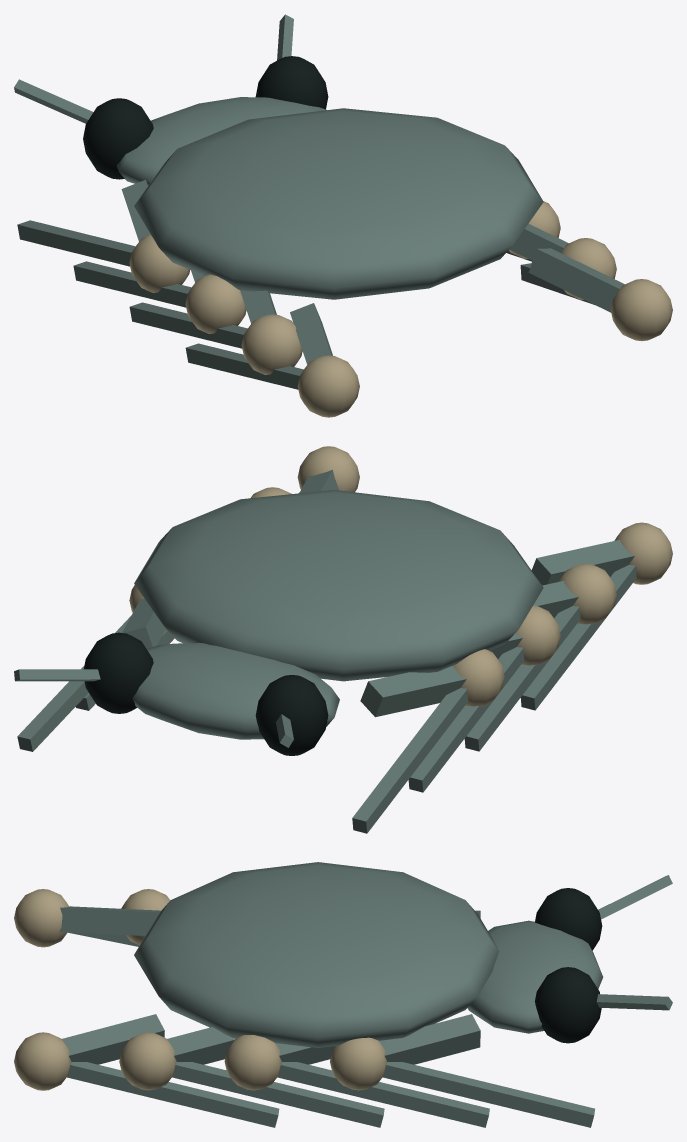
File: cremling.glb
3 renders of one model, top to bottom at view 1: azimuth 30°, elevation 25°; view 2: azimuth 150°, elevation 25°; view 3: azimuth 270°, elevation 25°, orthographic. The views are drawn at different scales.
Parts seen in each view (by area): view 1: carapace_stone, leg_3_-1_stone, leg_3_1_stone, leg_2_-1_stone, leg_0_-1_stone, leg_1_-1_stone, leg_2_1_stone, leg_1_1_stone; view 2: carapace_stone, leg_0_-1_stone, leg_3_-1_stone, leg_2_-1_stone, leg_1_-1_stone, leg_0_1_stone, leg_3_1_stone; view 3: carapace_stone, leg_0_1_stone, leg_3_1_stone, leg_2_1_stone, leg_1_1_stone, leg_3_-1_stone, leg_2_-1_stone.
Part boxes in pixels (bbox=[...]): carapace_stone: bbox=[14, 14, 543, 299]; leg_3_-1_stone: bbox=[185, 303, 359, 417]; leg_3_1_stone: bbox=[520, 248, 672, 341]; leg_2_-1_stone: bbox=[129, 290, 302, 374]; leg_0_-1_stone: bbox=[17, 180, 189, 292]; leg_1_-1_stone: bbox=[73, 261, 246, 333]; leg_2_1_stone: bbox=[506, 223, 616, 299]; leg_1_1_stone: bbox=[509, 201, 560, 258]; carapace_stone: bbox=[14, 490, 543, 755]; leg_0_-1_stone: bbox=[352, 649, 504, 833]; leg_3_-1_stone: bbox=[520, 522, 672, 710]; leg_2_-1_stone: bbox=[464, 563, 616, 751]; leg_1_-1_stone: bbox=[408, 605, 560, 792]; leg_0_1_stone: bbox=[17, 585, 167, 751]; leg_3_1_stone: bbox=[297, 446, 359, 493]; carapace_stone: bbox=[134, 862, 672, 1047]; leg_0_1_stone: bbox=[330, 1014, 594, 1127]; leg_3_1_stone: bbox=[14, 1014, 279, 1127]; leg_2_1_stone: bbox=[119, 1027, 384, 1127]; leg_1_1_stone: bbox=[224, 1035, 489, 1127]; leg_3_-1_stone: bbox=[14, 889, 160, 947]; leg_2_-1_stone: bbox=[121, 889, 170, 945].
Size of the model in its own units: 0.408 by 0.1556 by 0.676.
